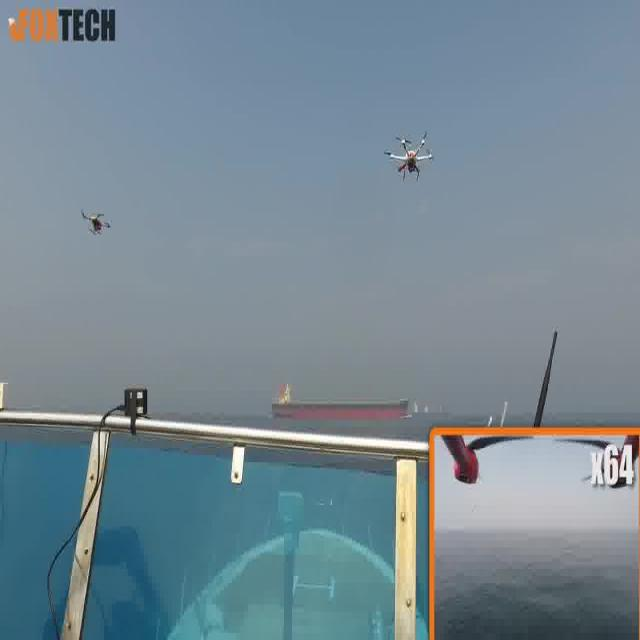Drone_FW: (380, 129, 434, 187), (80, 204, 112, 240)
